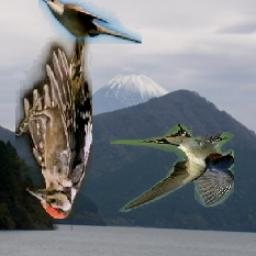Cuckoo: (38, 0, 142, 44)
Swallow: (111, 124, 235, 212)
Woodpecker: (15, 30, 92, 220)
